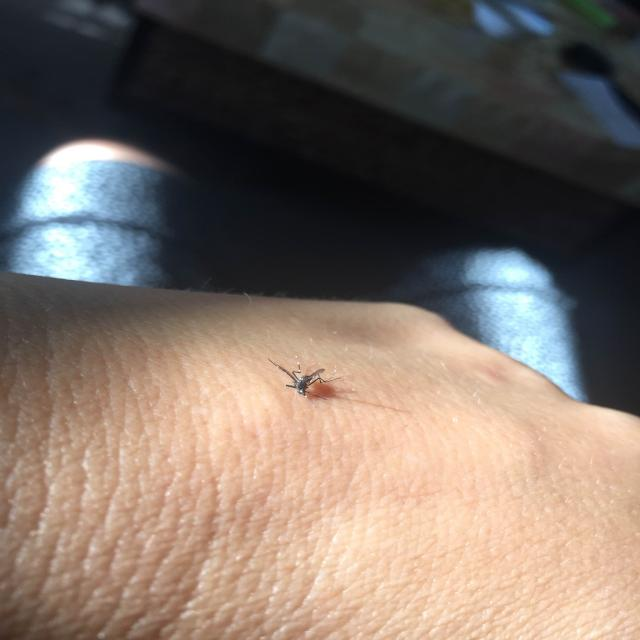albopictus: (264, 351, 339, 403)
